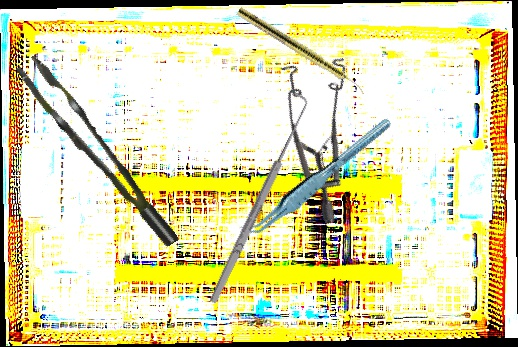Handpiece: (235, 6, 369, 96)
Hook Surgical: (199, 90, 316, 307)
Speculum: (241, 36, 415, 226)
Tissue Forceps: (14, 41, 180, 266), (230, 116, 404, 242)
